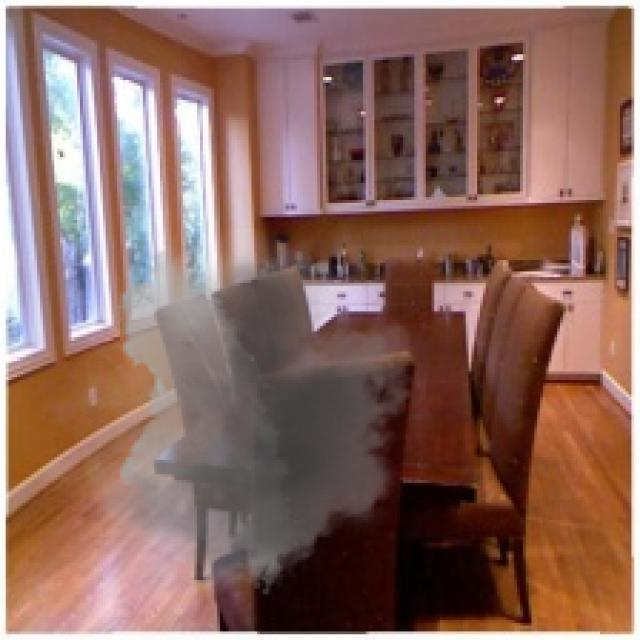Smoke: (39, 226, 432, 608)
